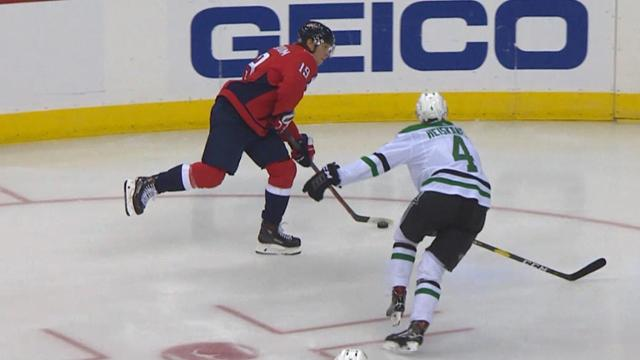geico: (189, 2, 593, 81)
